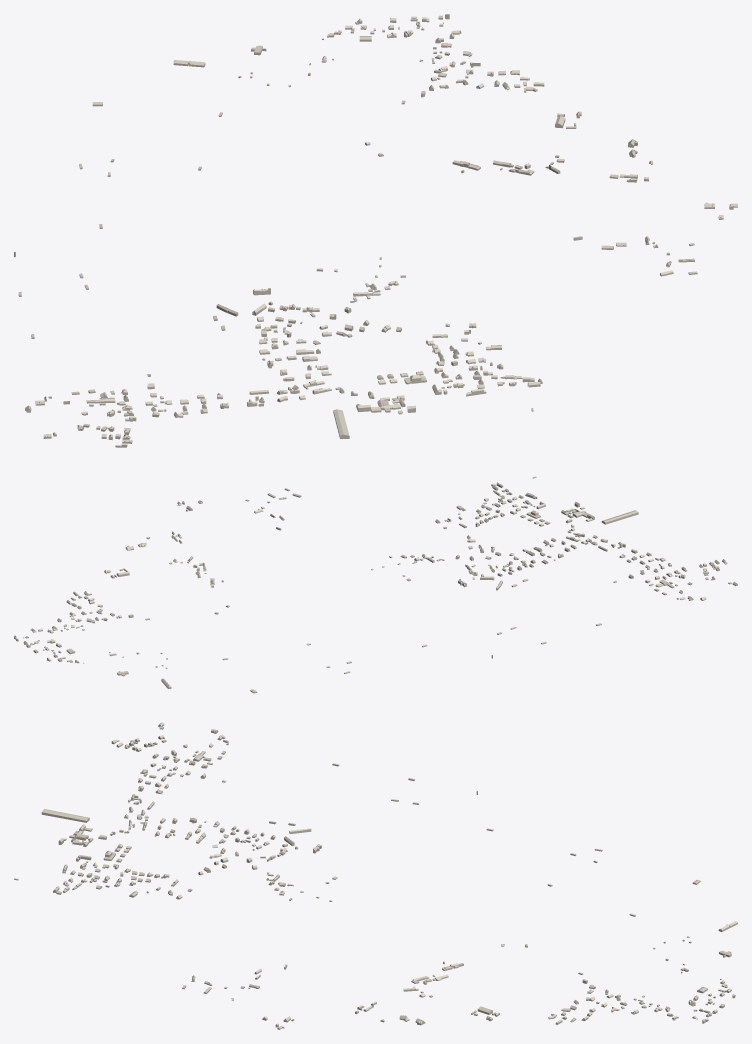
3 views of the same model, one above another, from view 1: azimuth 30°, elevation 25°; view 2: azimuth 150°, elevation 25°; view 3: azimuth 270°, elevation 25° (orthographic). The views are drawn at different scales.
Size of the model in its own units: 1721 by 41.38 by 1768.
